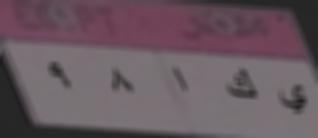8: (107, 66, 136, 98)
9: (45, 59, 74, 95)
alif: (168, 63, 191, 96)
kaaf: (223, 65, 260, 106)
yaa: (275, 80, 310, 120)
